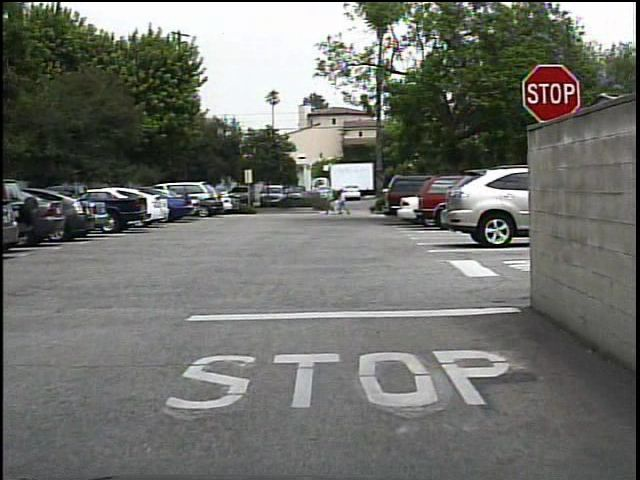person: (337, 189, 354, 218), (322, 187, 337, 217), (331, 187, 344, 217)
